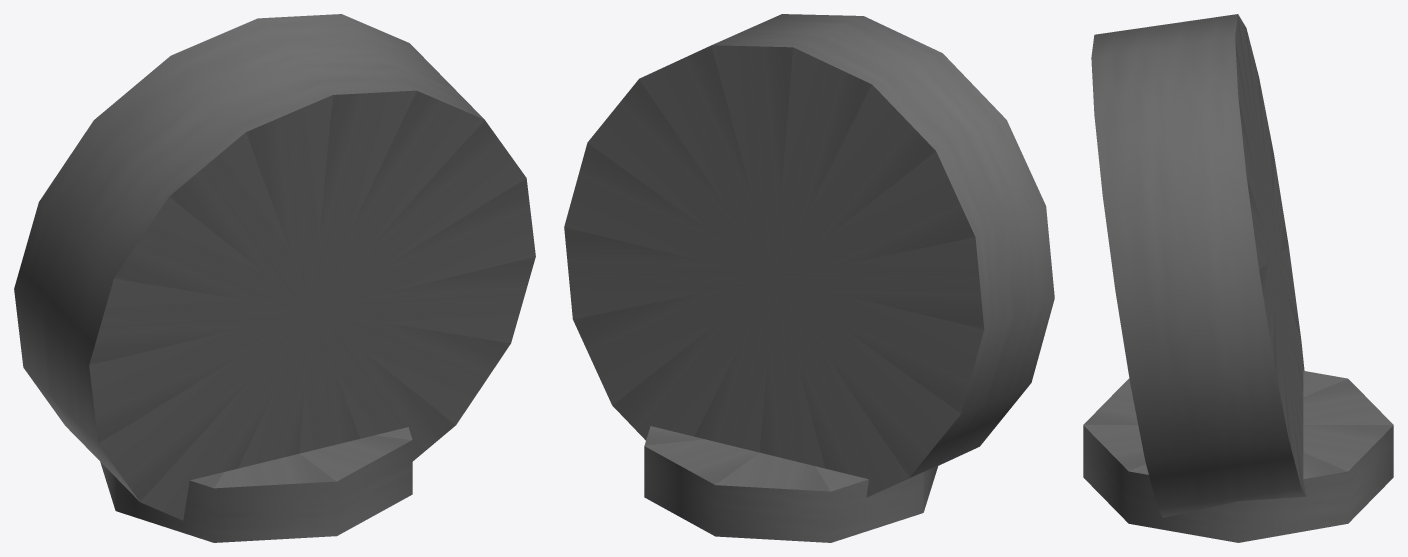
Rendered from mastarmcurve_8x2_c7_down.obj.
The picture shows the model from 3 angles, left to right: view 1: azimuth 30°, elevation 25°; view 2: azimuth 150°, elevation 25°; view 3: azimuth 270°, elevation 25°; orthographic projection. The views are drawn at different scales.
Visible parts, largest first — view 1: mastarm_8x2_c7_down; view 2: mastarm_8x2_c7_down; view 3: mastarm_8x2_c7_down.
Part boxes in pixels (x1,y1,x2,y2): mastarm_8x2_c7_down: [14, 14, 535, 542]; mastarm_8x2_c7_down: [564, 14, 1054, 542]; mastarm_8x2_c7_down: [1083, 14, 1393, 542].
Bounding box in the file's own units: 0.6364 × 0.6579 × 0.4.
